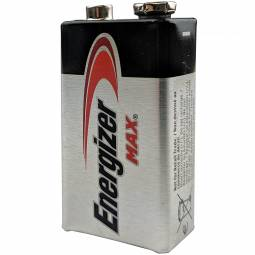9V: (56, 4, 203, 253)
